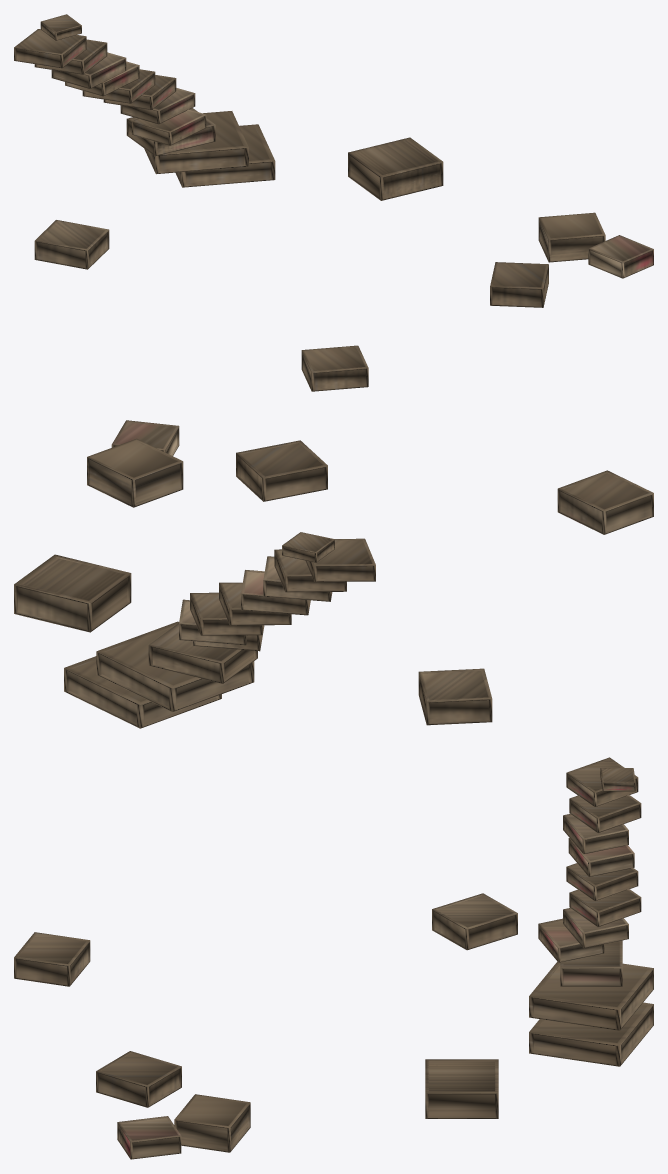
Rendered from field_helloween_2_kibako.fbx.
3 renders of one model, top to bottom at view 1: azimuth 30°, elevation 25°; view 2: azimuth 150°, elevation 25°; view 3: azimuth 270°, elevation 25°, orthographic. The views are drawn at different scales.
Parts seen in each view (by area): view 1: field_helloween_2_kibako; view 2: field_helloween_2_kibako; view 3: field_helloween_2_kibako.
Boxes of the visible parts, x1,y1,x2,y2 form: field_helloween_2_kibako: [14, 14, 653, 391]; field_helloween_2_kibako: [14, 420, 653, 728]; field_helloween_2_kibako: [14, 757, 653, 1159].
Bounding box in the file's own units: 1373 × 486 × 1513.
Materials: 1 (1 with a texture image).
